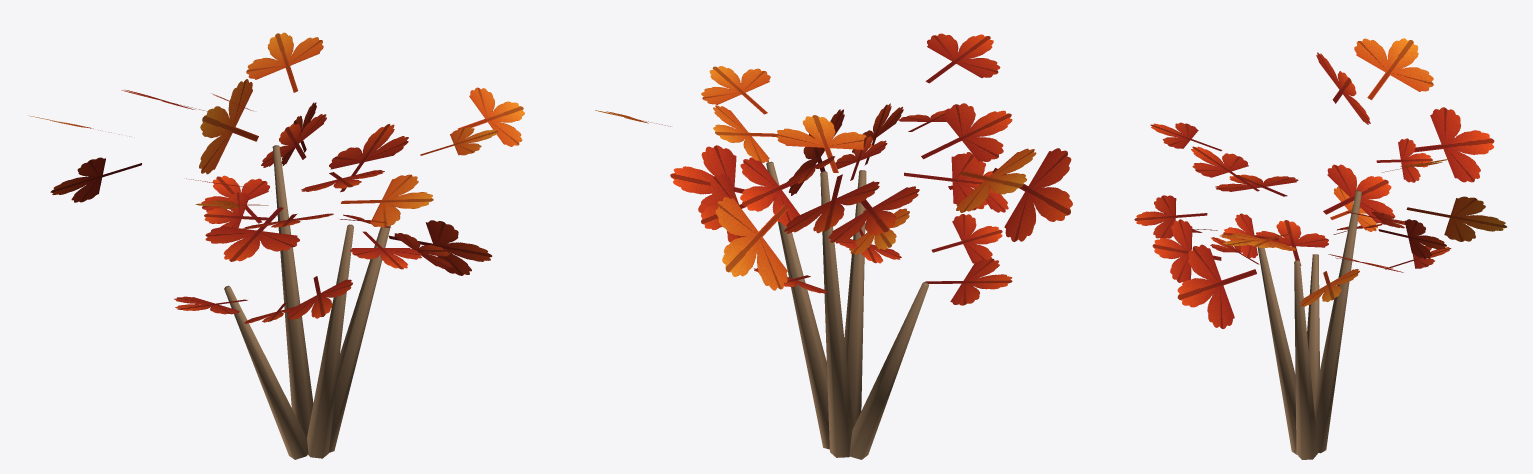
File: maple_sparse.glb
3 views of the same model, side by side, from view 1: azimuth 30°, elevation 25°; view 2: azimuth 150°, elevation 25°; view 3: azimuth 270°, elevation 25° (orthographic). The views are drawn at different scales.
Parts seen in each view (by area): view 1: maple_sparse; view 2: maple_sparse; view 3: maple_sparse.
Boxes of the visible parts, x1,y1,x2,y2 form: maple_sparse: (29,32,524,459); maple_sparse: (595,33,1072,459); maple_sparse: (1134,38,1506,459).
Size of the model in its own units: 3.03 by 2.22 by 2.35.
3 materials, 2 textured.
